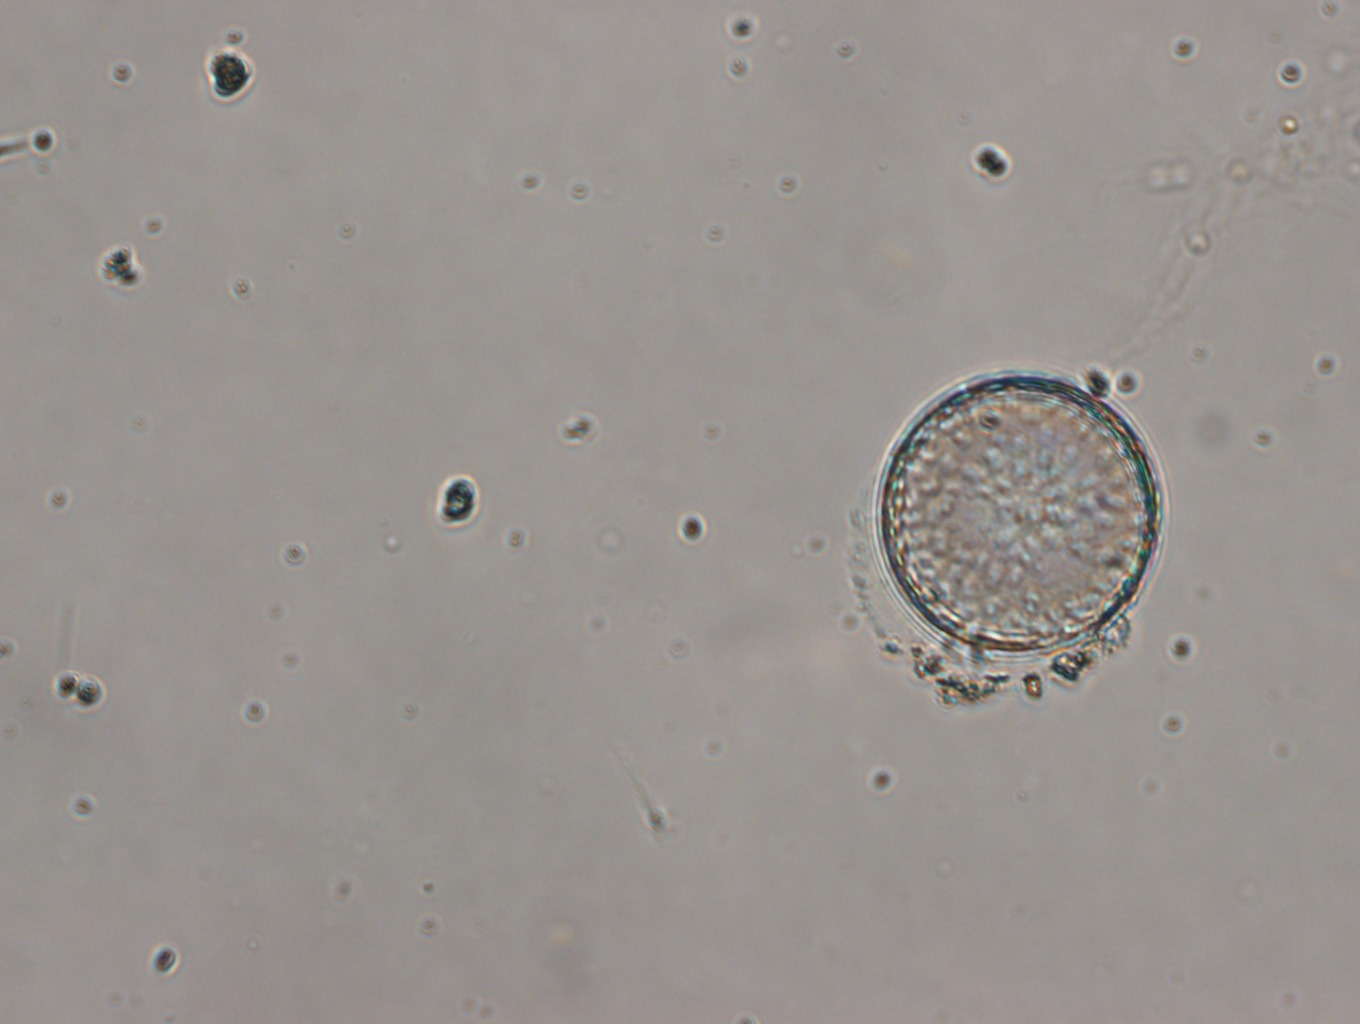coscinodiscus: (871, 370, 1163, 658)
